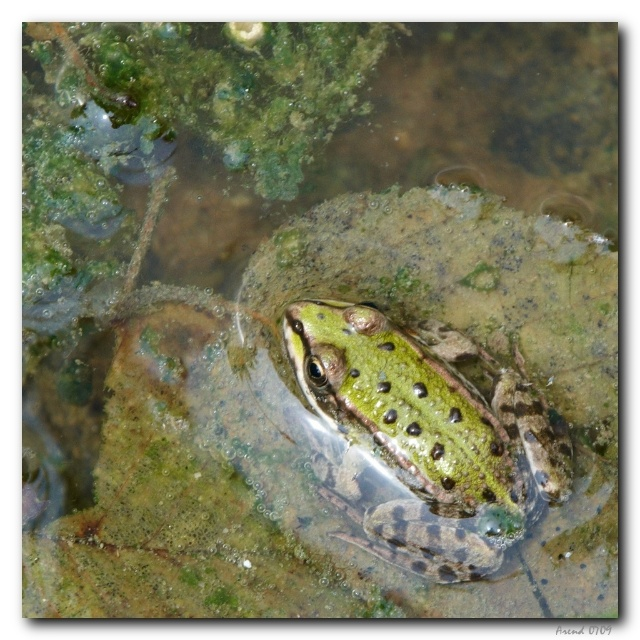Frog: (281, 298, 576, 586)
